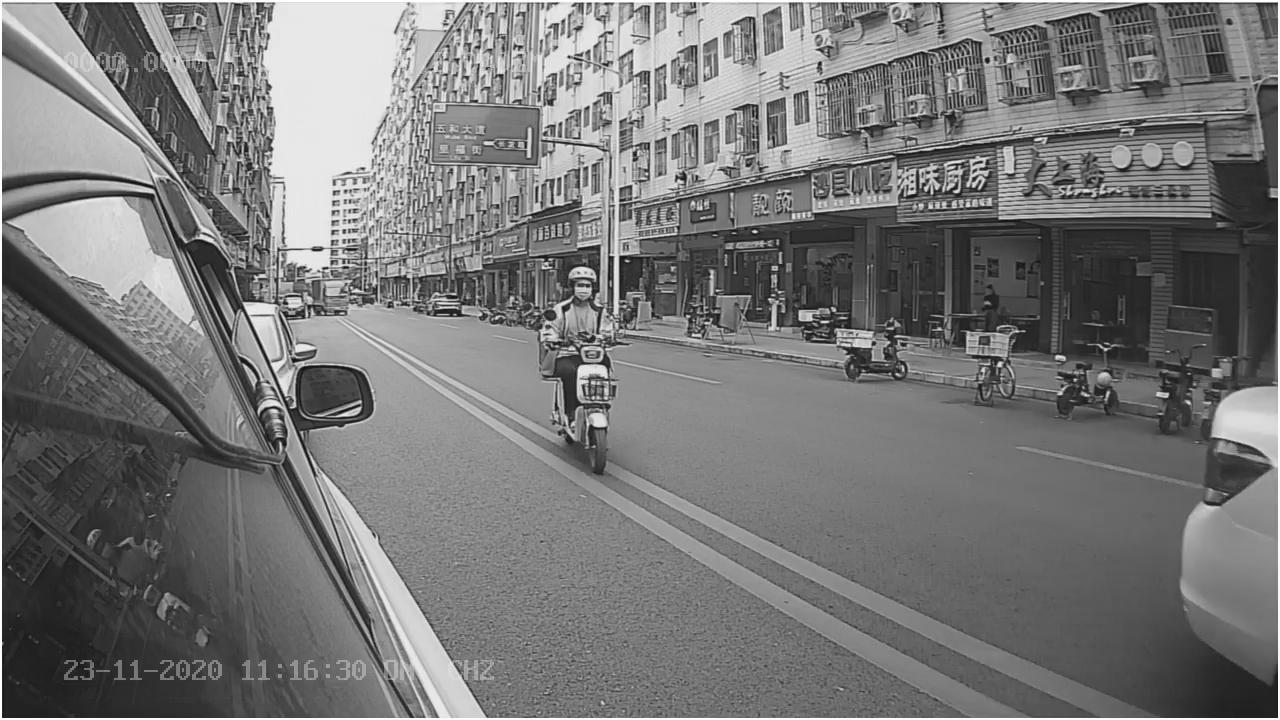person: (529, 263, 626, 346)
